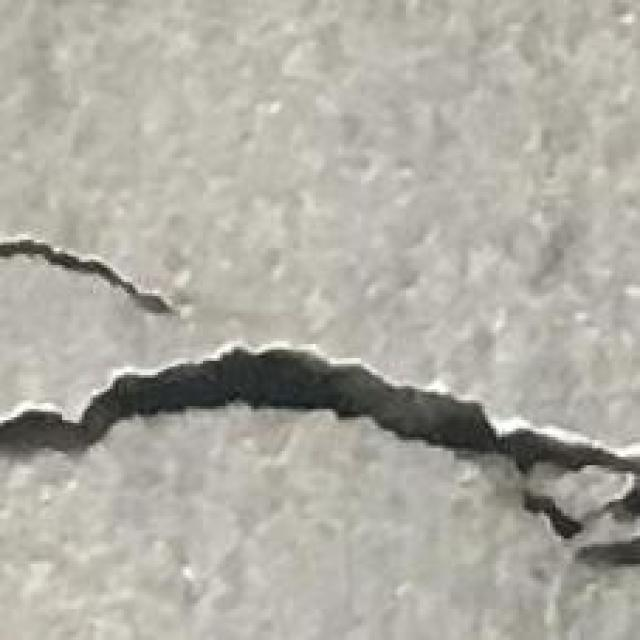branched cracks: (0, 346, 639, 539), (579, 534, 639, 564)
